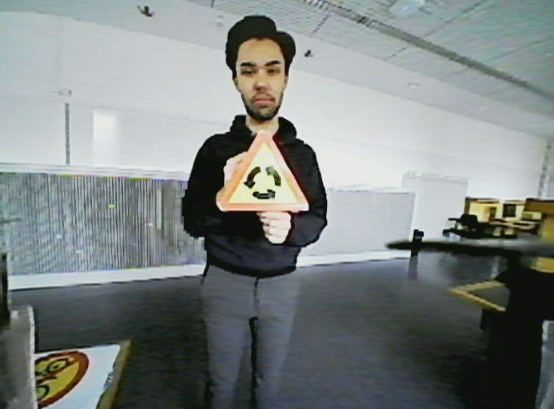roundabout_warning: (215, 128, 314, 217)
